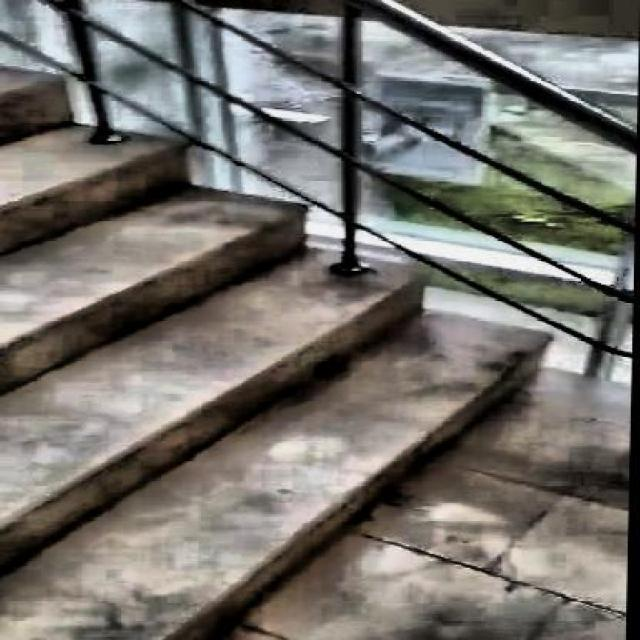stair: (0, 56, 575, 638)
